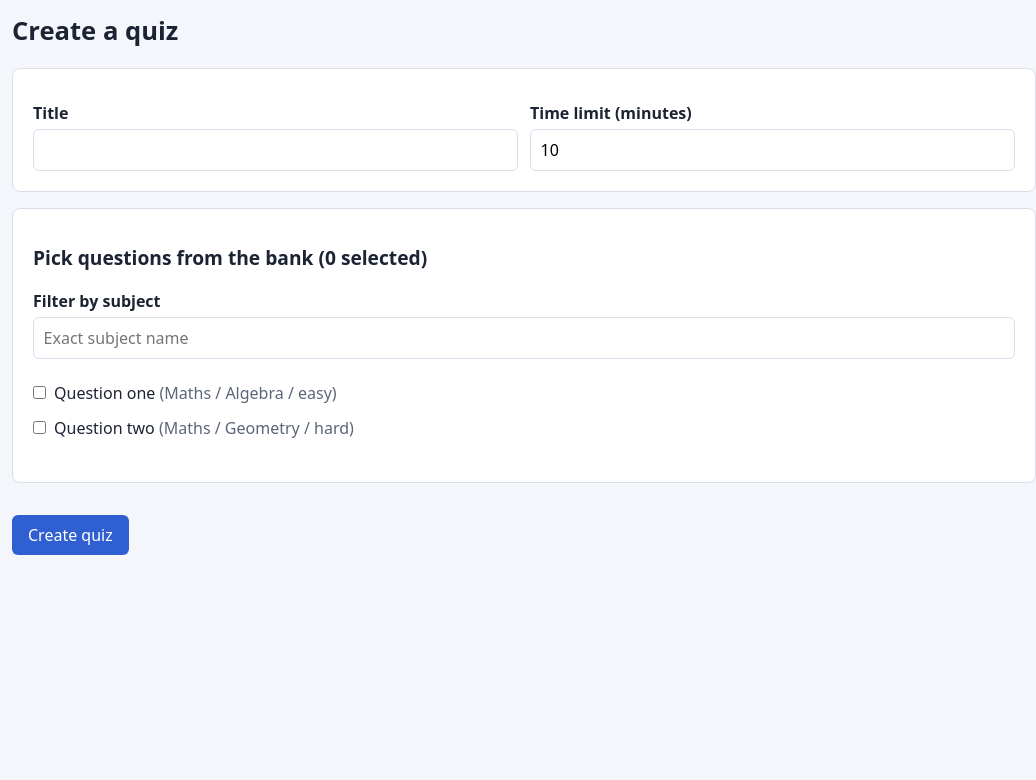
Test case: TC-Quiz-01 create a quiz from the bank (CSMQP-F-030/031) › requires at least one question
Expected: the text "Question one" is shown, [54,382,155,404]
Type "Midterm" into the field labelled "Title".
click(276, 150); type("Midterm")  # box [33,128,518,170]
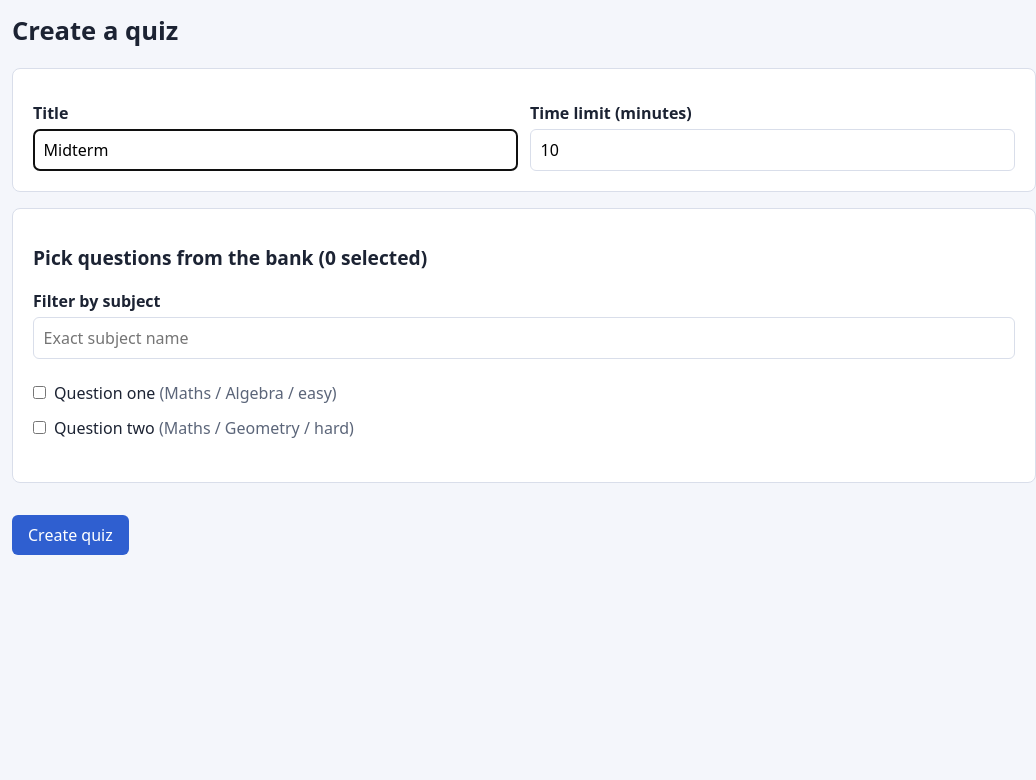
Replace the text in the number field labelled "Time limit (minutes)" with "15" at (772, 150), box [530,128,1015,170]
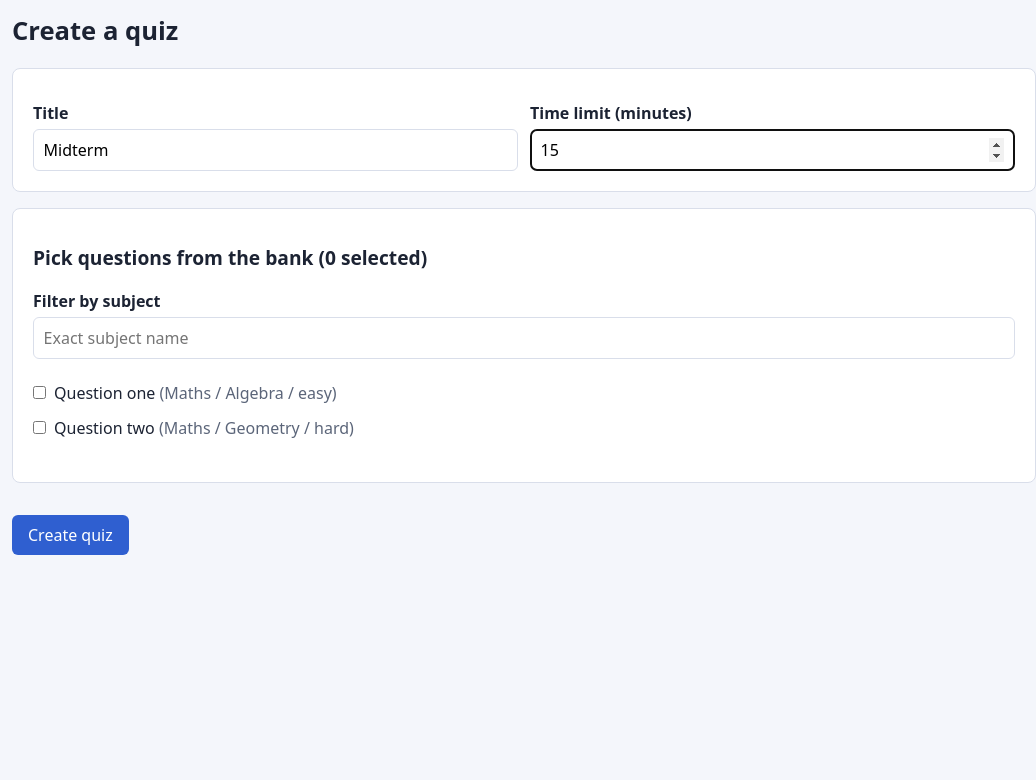
Click the button "Create quiz".
click(70, 534)  # box [12,514,129,554]
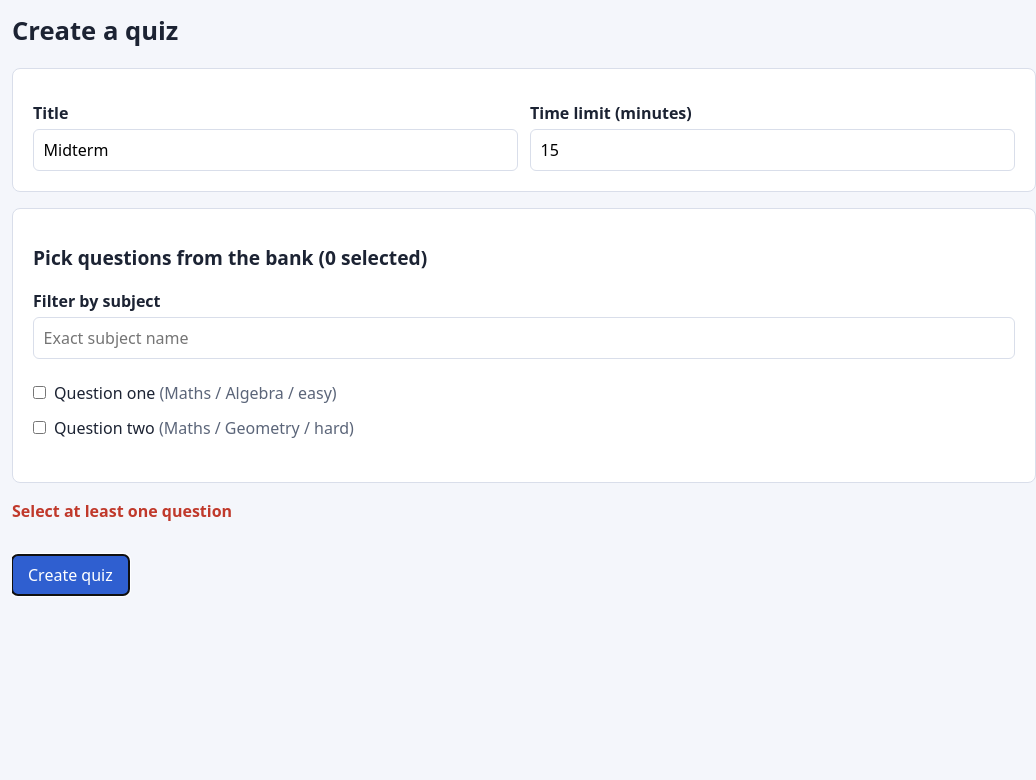
Expected: the message reads "Select at least one question", [12,500,232,522]
